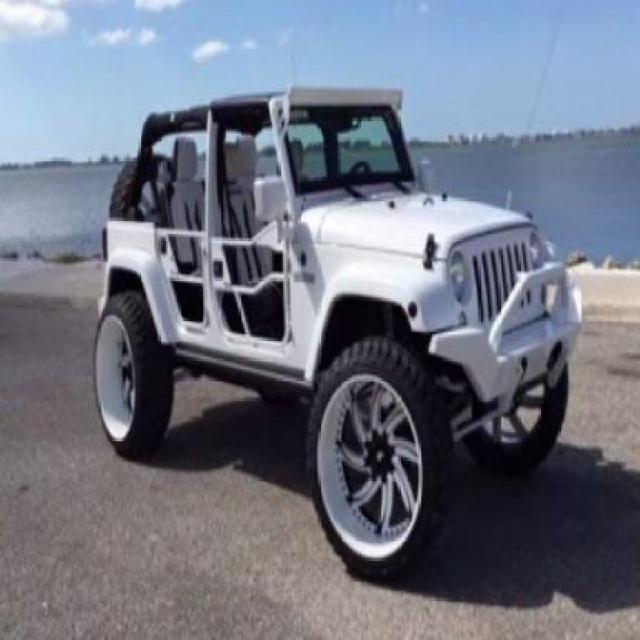Jeep: (89, 80, 580, 574)
